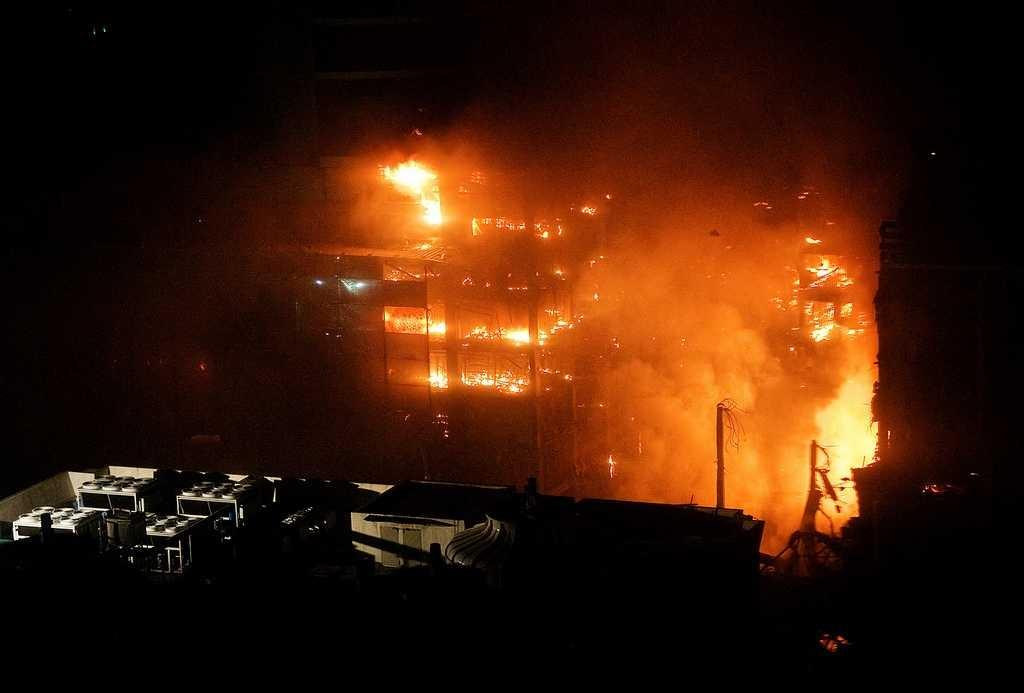fire: (838, 420, 875, 465), (382, 167, 442, 190), (428, 315, 462, 345), (508, 327, 535, 345)
